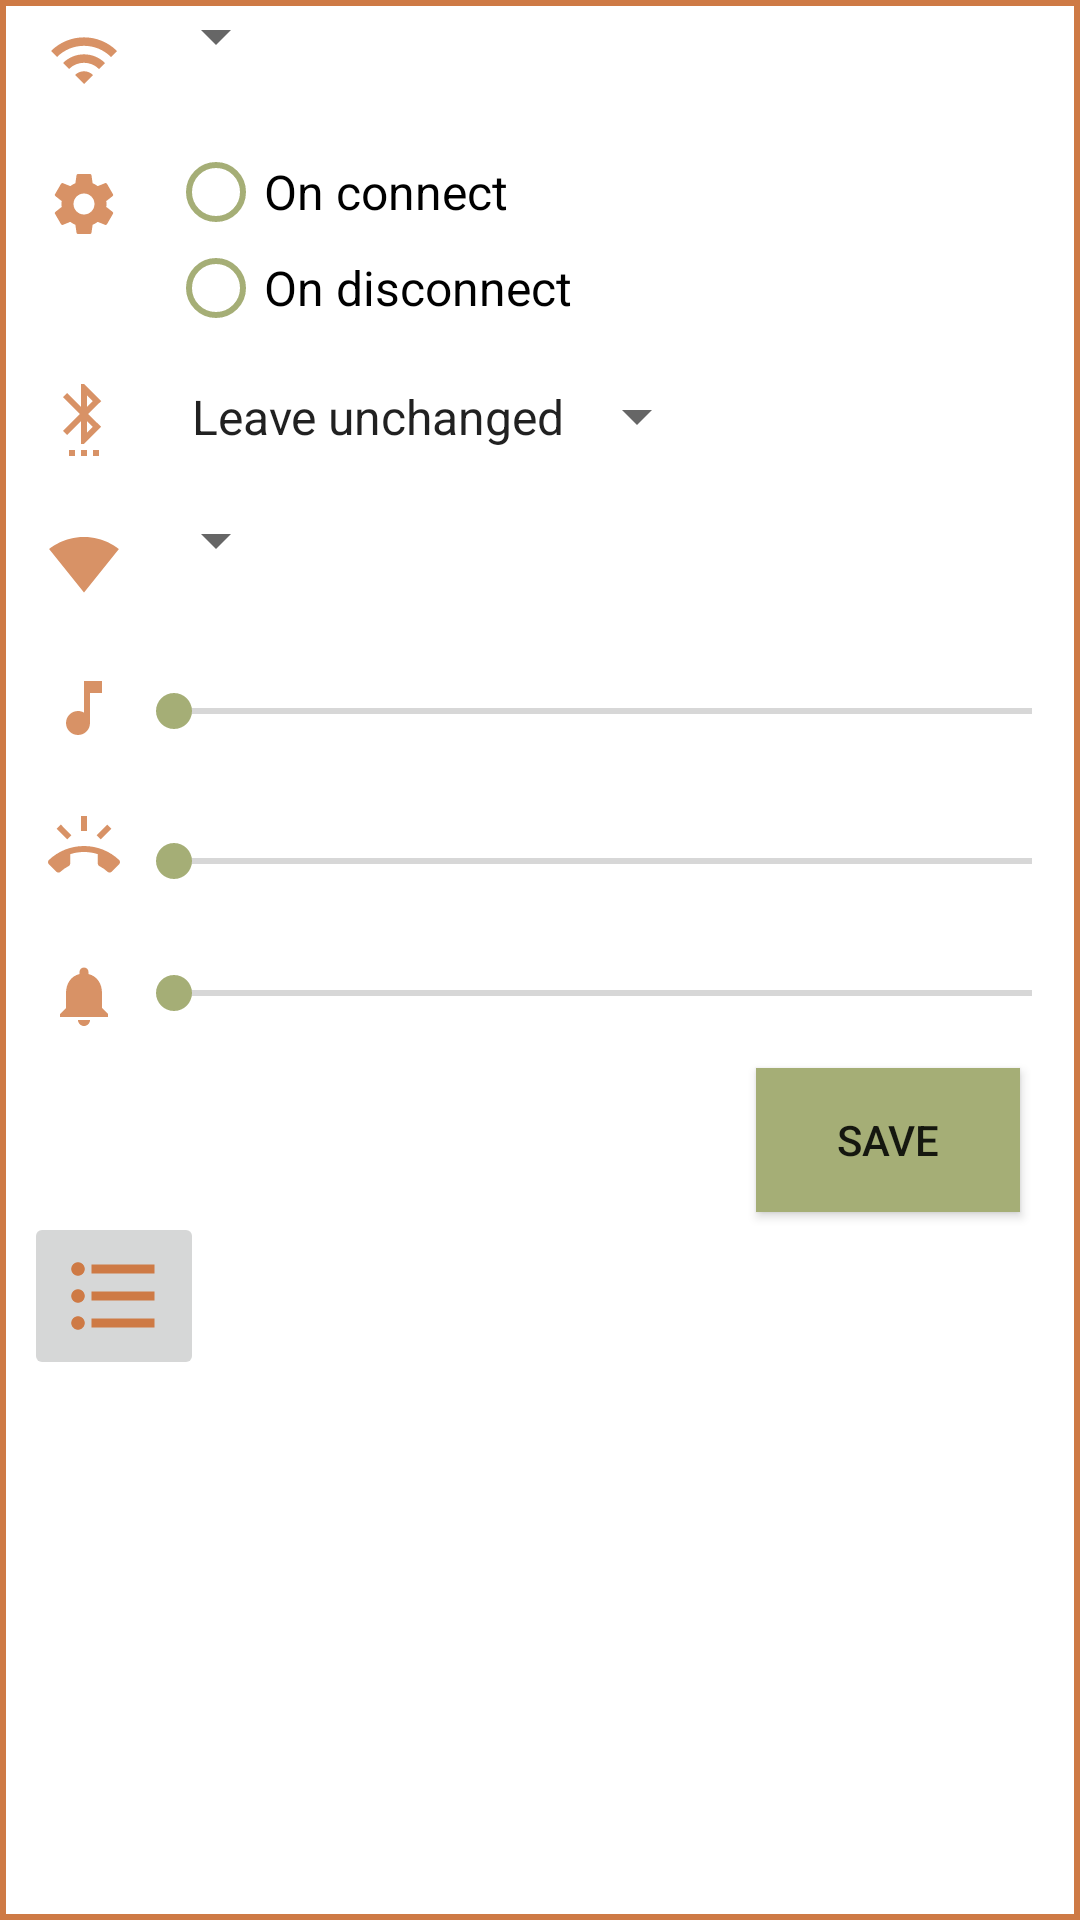

Named icons in this screenshot (1080x1920) and their centers, (x,y):
list: (114,1296)
Media Volume Settings: (84,708)
notifications: (84,996)
ring volume brown: (84,844)
Trigger Settings: (84,204)
Wifi Settings: (84,564)
